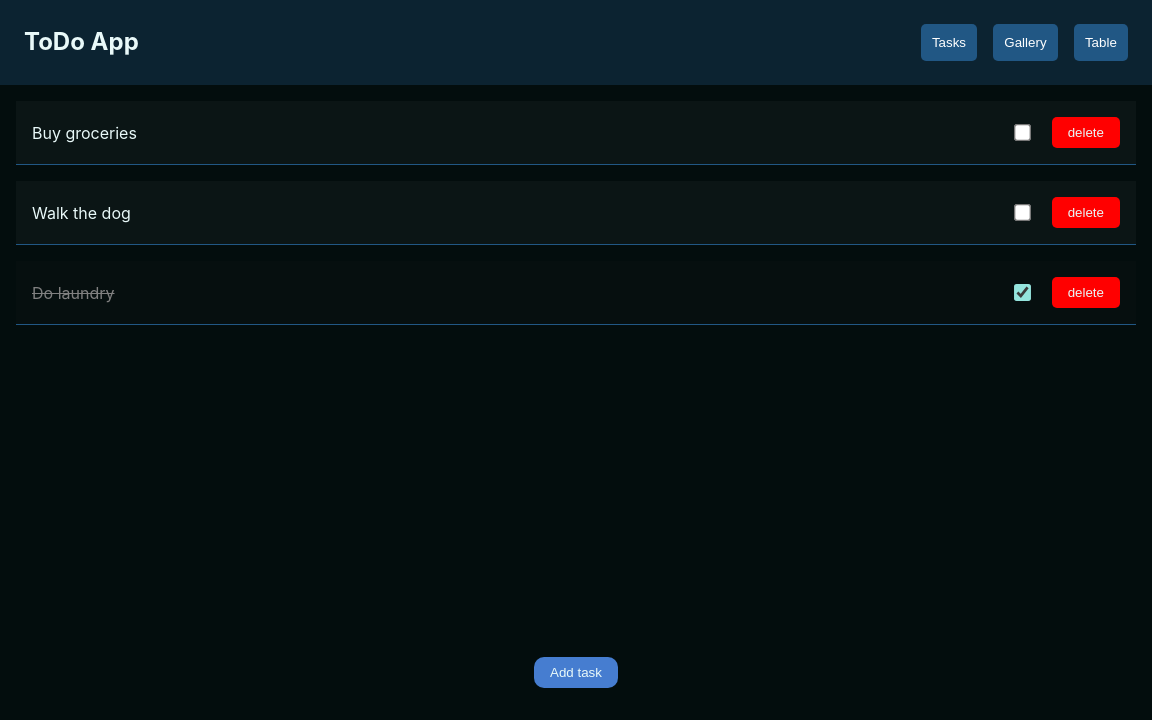
Test: Tasks › Deletes first task
Step 1. Click the button "delete" in the row of "Buy groceries" → (1086, 133), box [1052,117,1120,148]
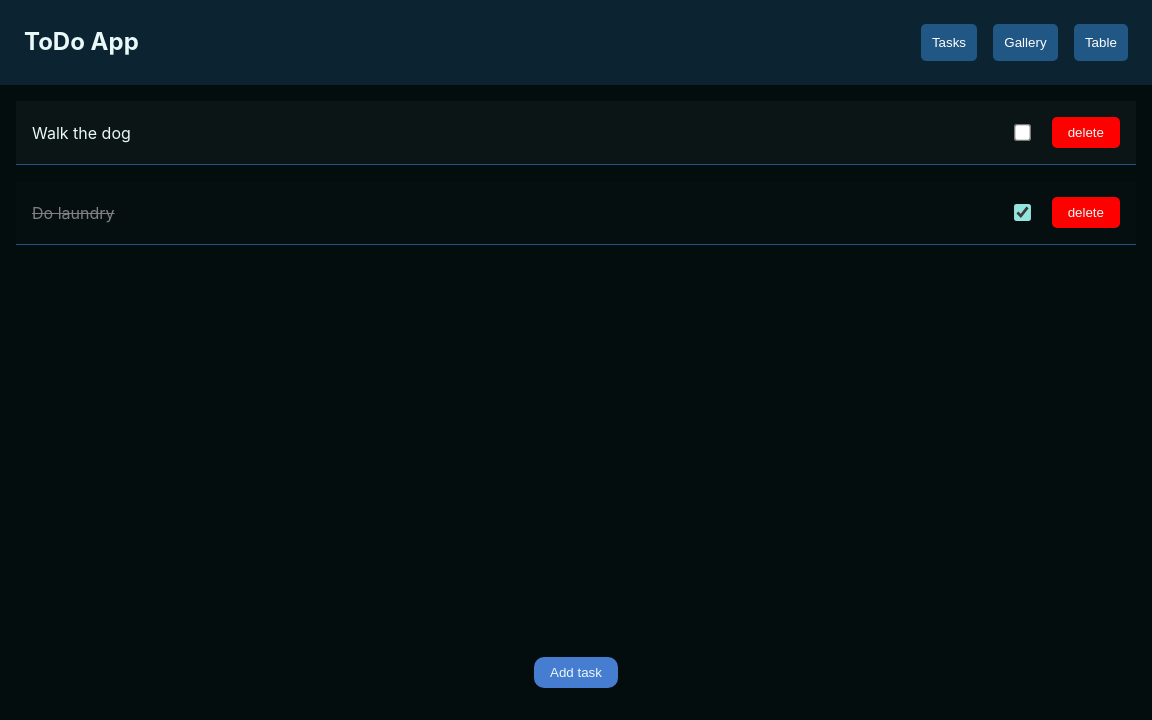
Result: the text "Buy groceries" is gone
